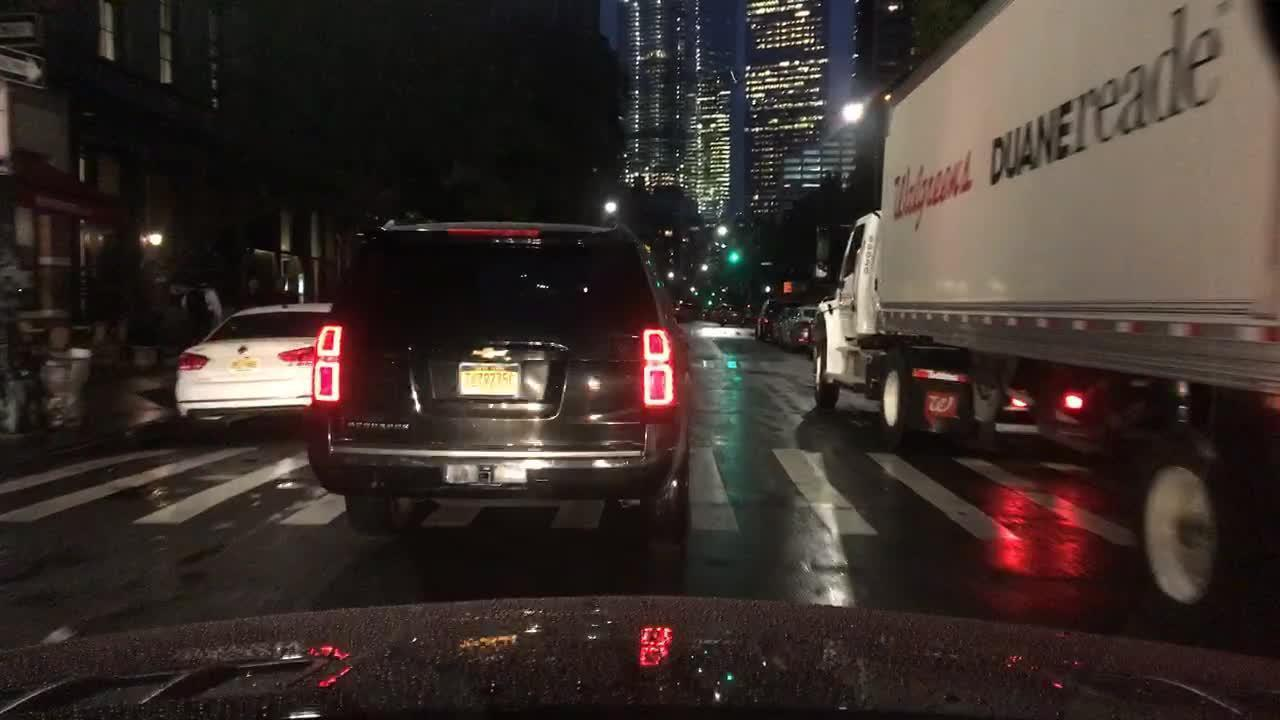chevrolet: (466, 332, 518, 373)
